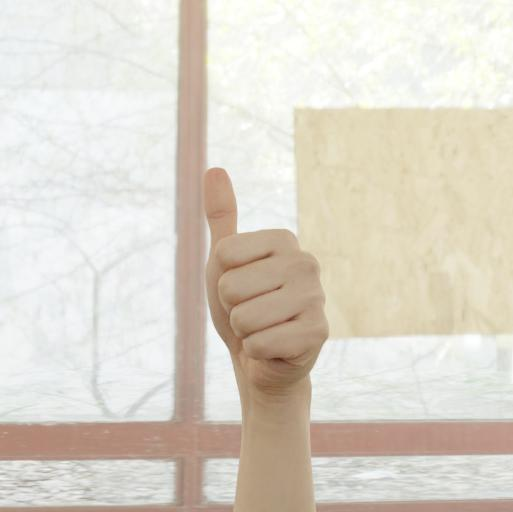thumbs-up: (204, 159, 333, 392)
